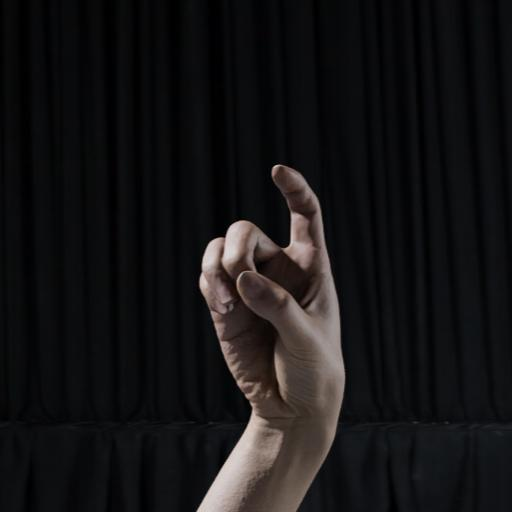X: (184, 152, 362, 433)
